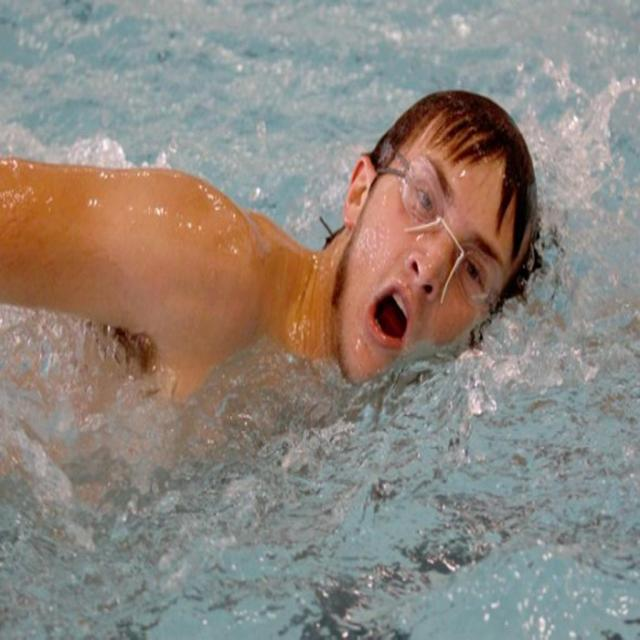nomask: (346, 154, 509, 382)
